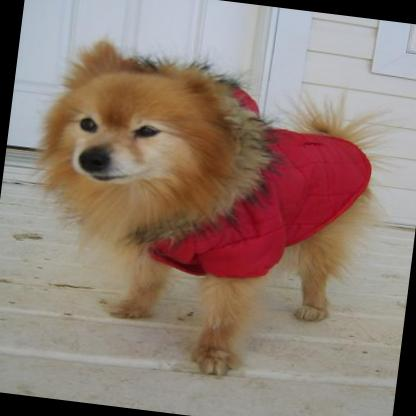Pomeranian: (9, 31, 394, 394)
